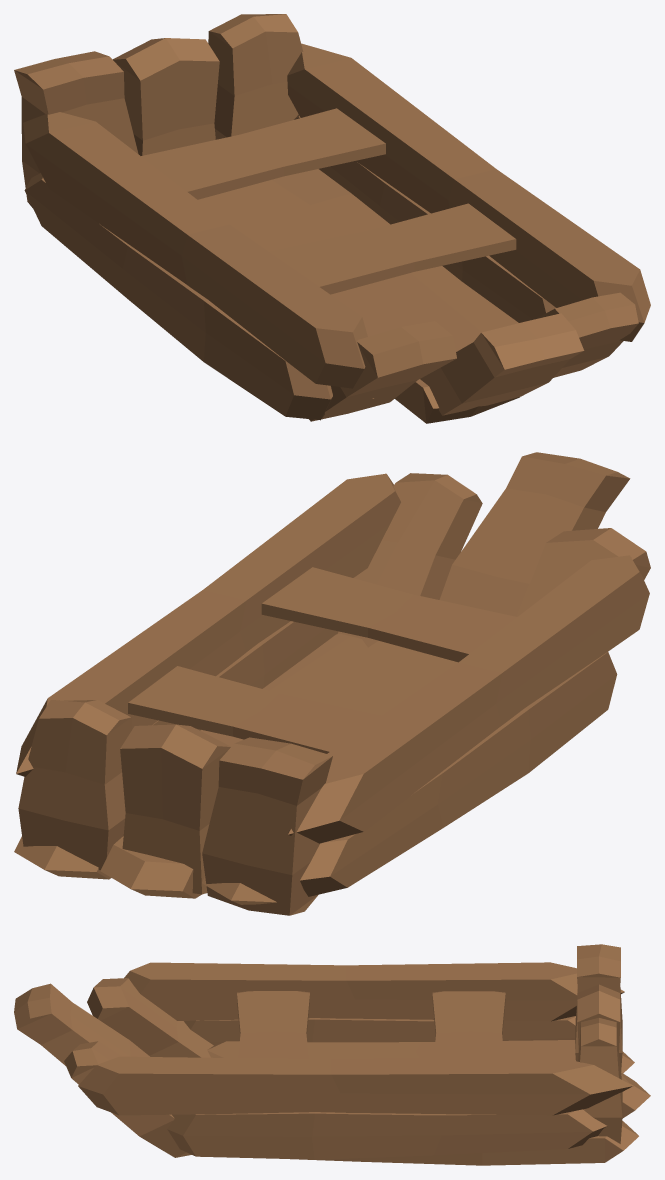
File: Boat_2.fbx
3 renders of one model, top to bottom at view 1: azimuth 30°, elevation 25°; view 2: azimuth 150°, elevation 25°; view 3: azimuth 270°, elevation 25°, orthographic. The views are drawn at different scales.
Visible parts, largest first — view 1: Boat2_mesh; view 2: Boat2_mesh; view 3: Boat2_mesh.
Boxes of the visible parts, x1,y1,x2,y2 form: Boat2_mesh: [14, 14, 650, 423]; Boat2_mesh: [14, 452, 650, 915]; Boat2_mesh: [14, 944, 650, 1165].
Size of the model in its own units: 131 by 66.07 by 312.
